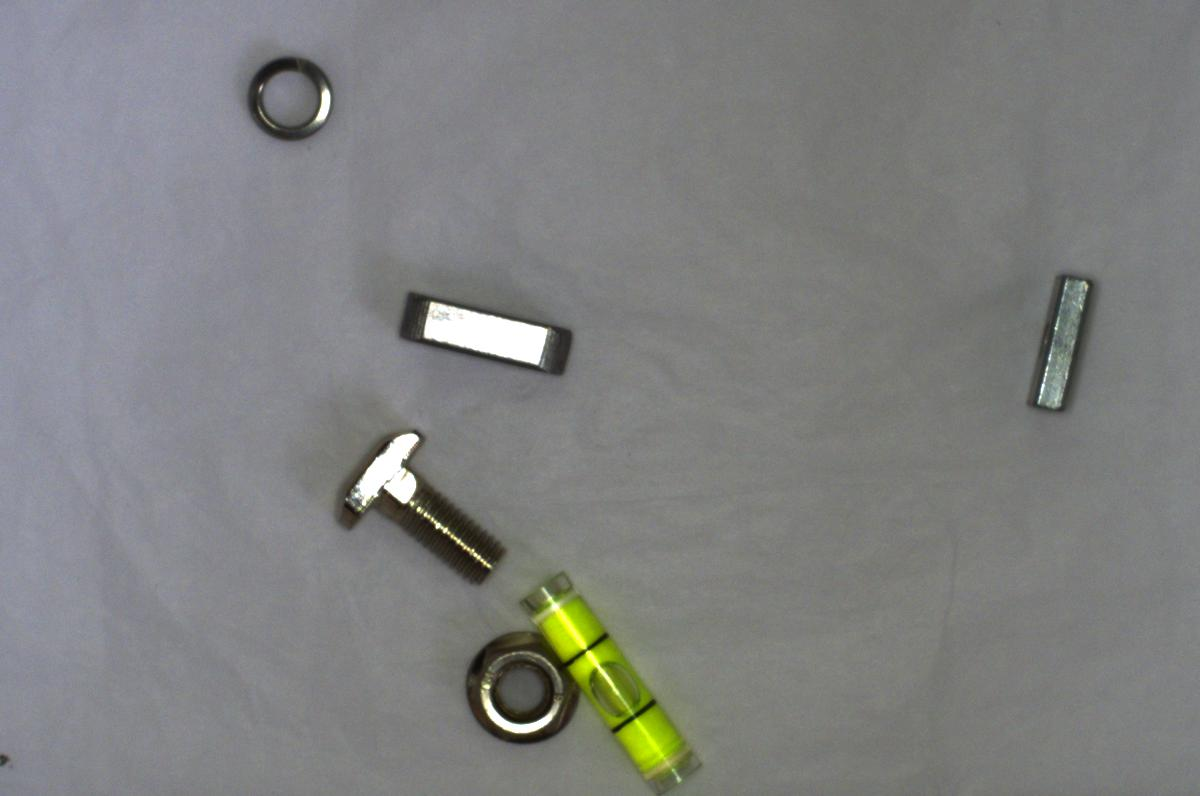Flange nut: (461, 623, 584, 748)
Horizontal bubble: (520, 568, 710, 793)
Keybar: (393, 281, 578, 383)
Rectangular nut: (1020, 265, 1092, 421)
Spring washer: (235, 50, 341, 146)
T-shaped screw: (331, 425, 507, 579)
